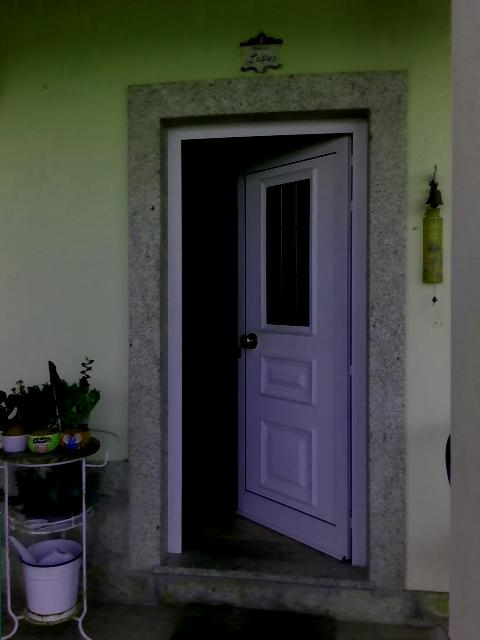semi_door: (157, 105, 367, 568)
